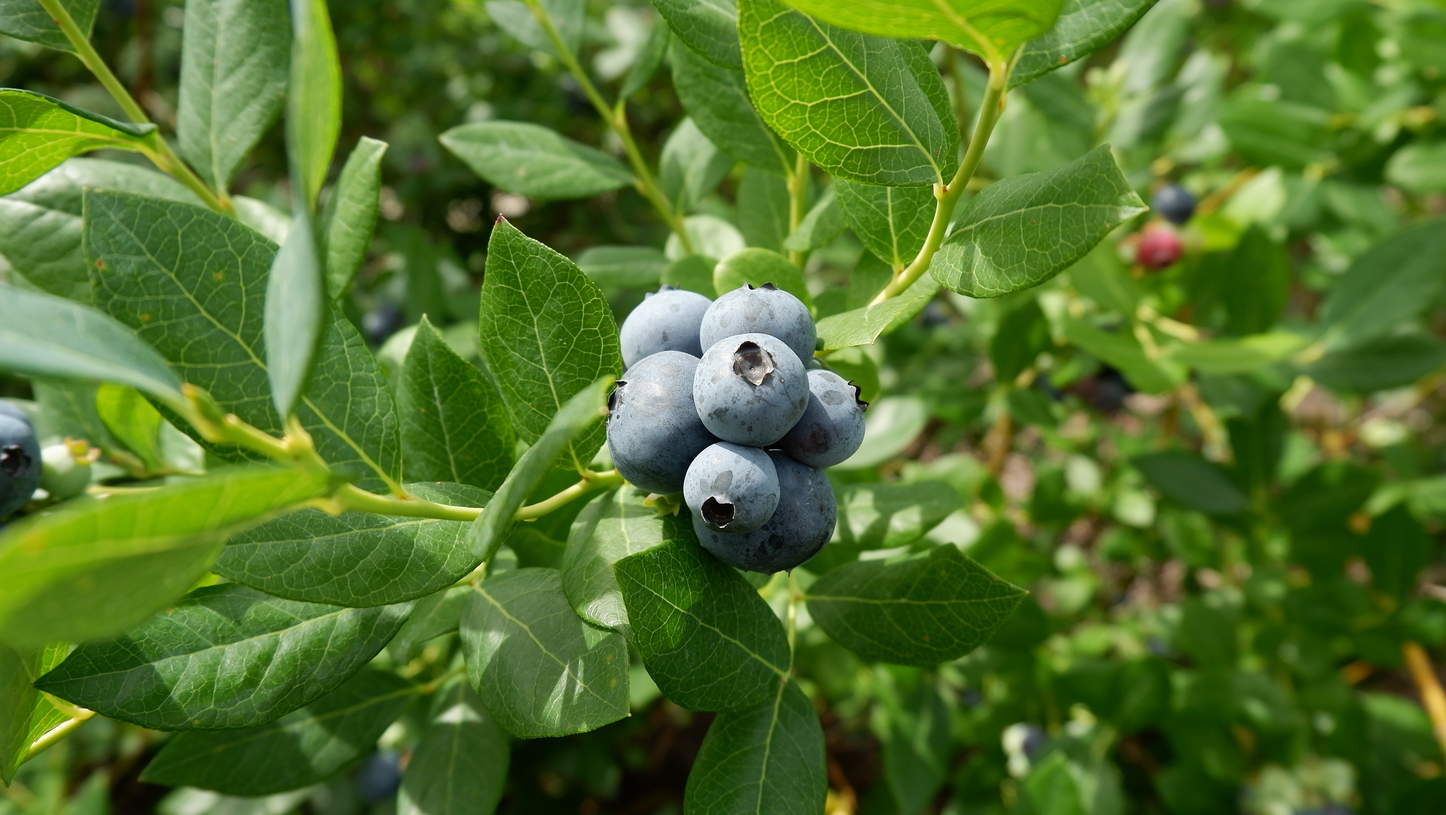Mature: (691, 449, 837, 575), (606, 351, 710, 495), (693, 333, 810, 446), (700, 282, 815, 369), (683, 441, 780, 535), (779, 370, 865, 467), (620, 286, 713, 369)
